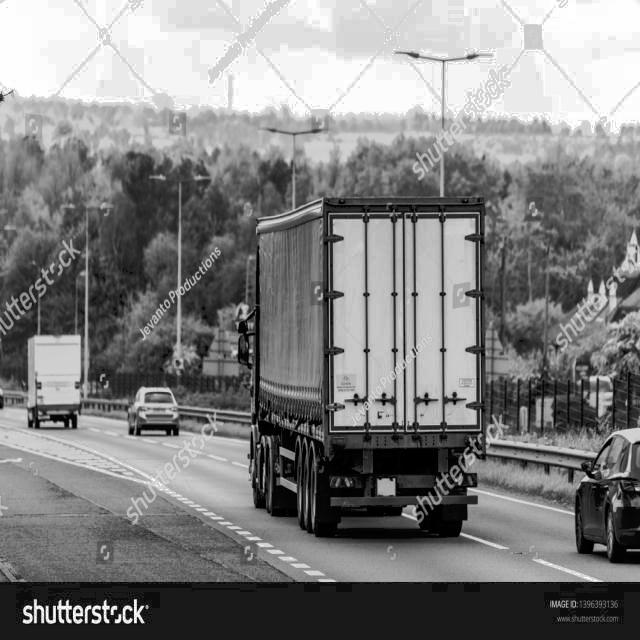HCV: (226, 160, 516, 572)
